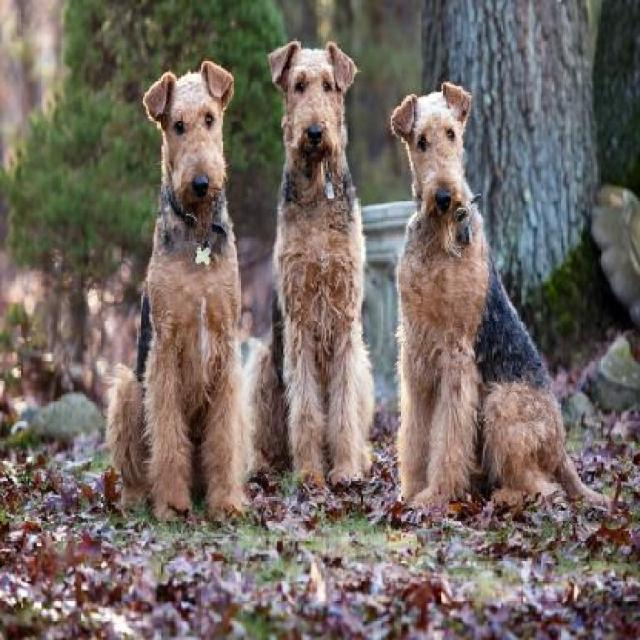animals: (238, 19, 404, 518), (383, 74, 554, 503), (112, 49, 255, 526)
